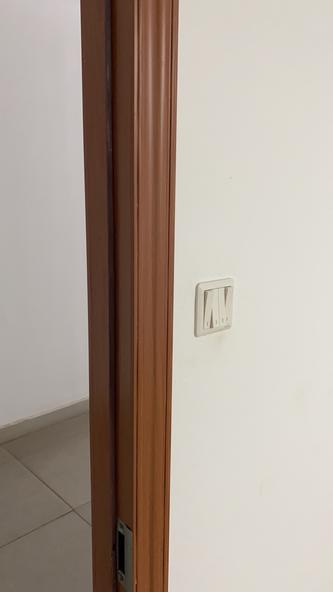switch: (201, 291, 210, 329), (214, 288, 221, 333), (227, 291, 233, 333)
